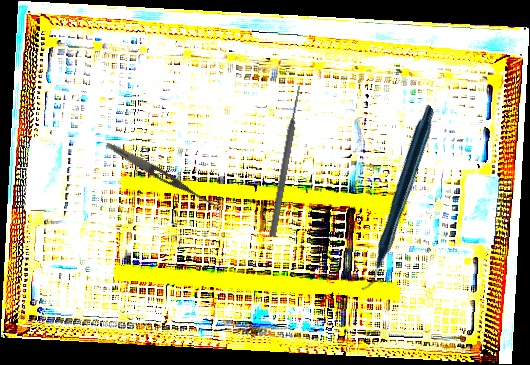Dressing Forceps: (104, 139, 218, 210)
Handpiece: (296, 103, 496, 292)
Pusher: (267, 85, 305, 237)
